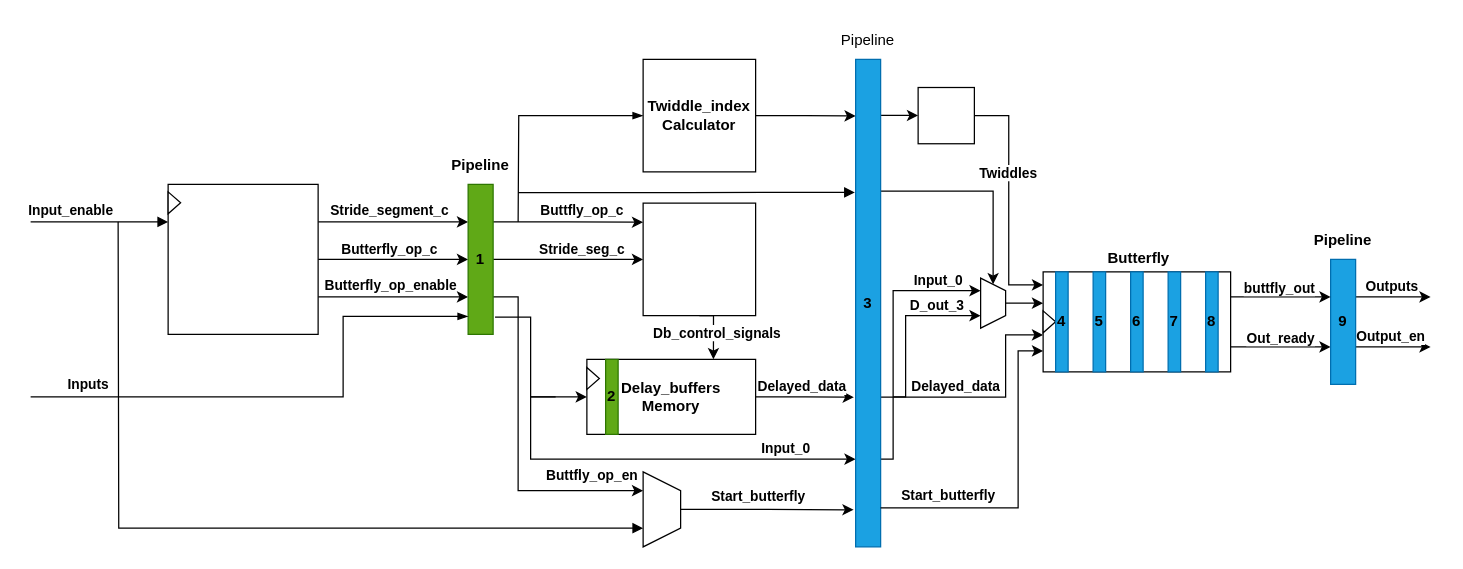
Some shapes in this 1463 by 569 pixel diagram are drawn without their labels. The centre of each missing label's shape, as x and y in pixels:
Control Unit: (x=242, y=258)
Delay_buffers Control: (x=699, y=259)
Twiddle mem: (x=945, y=115)
